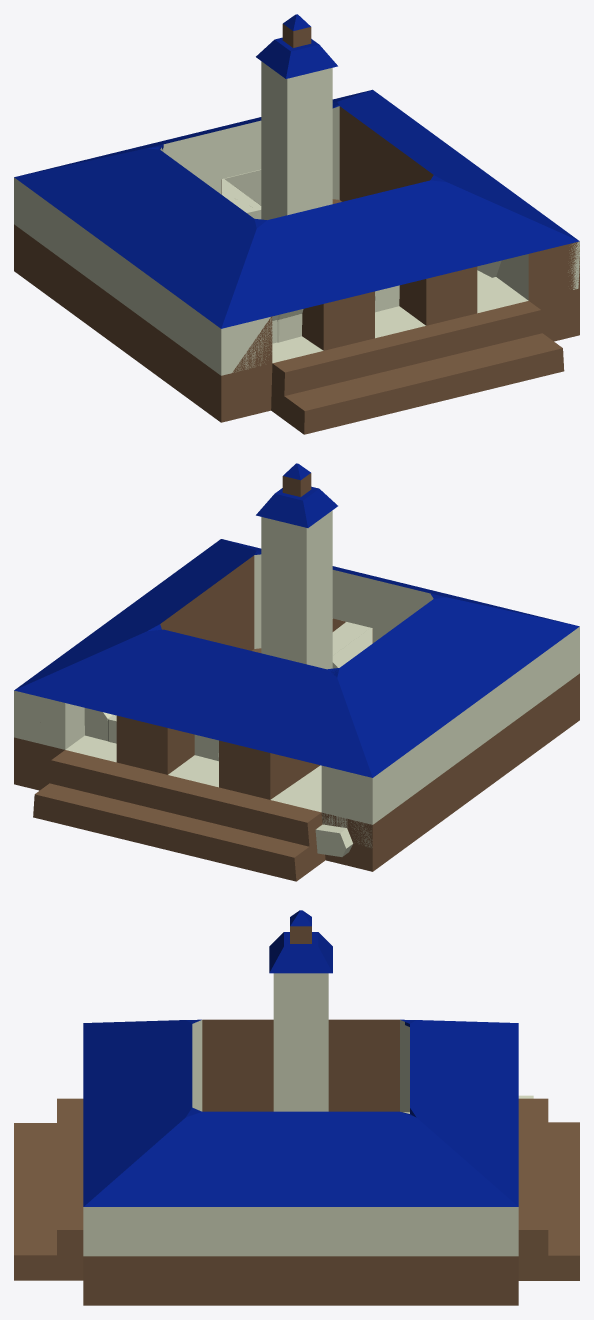
Rendered from TempleRoom.fbx.
3 renders of one model, top to bottom at view 1: azimuth 30°, elevation 25°; view 2: azimuth 150°, elevation 25°; view 3: azimuth 270°, elevation 25°, orthographic. The views are drawn at different scales.
Parts seen in each view (by area): view 1: Temple, Temple_cell.068, Temple_cell.073, Temple_cell.031, Temple_cell.083, Temple_cell.046, Temple_cell.085, Temple_cell.016, Temple_cell.069, Temple_cell.029, Temple_cell.004, Temple_cell.002 (+16 smaller); view 2: Temple, Temple_cell.068, Temple_cell.079, Temple_cell.004, Temple_cell.095, Temple_cell.058, Temple_cell.097, Temple_cell.010, Temple_cell.045, Temple_cell.098, Temple_cell.027, Temple_cell.023 (+13 smaller); view 3: Temple, Temple_cell.004, Temple_cell.027, Temple_cell.097, Temple_cell.016, Temple_cell.075, Temple_cell.079, Temple_cell.076, Temple_cell.036, Temple_cell.010, Temple_cell.080, Temple_cell.095 (+15 smaller).
Part boxes in pixels (bbox=[...]): Temple: bbox=[14, 16, 579, 434]; Temple_cell.068: bbox=[42, 155, 165, 321]; Temple_cell.073: bbox=[287, 44, 335, 162]; Temple_cell.031: bbox=[186, 303, 271, 375]; Temple_cell.083: bbox=[179, 356, 245, 421]; Temple_cell.046: bbox=[232, 316, 310, 383]; Temple_cell.085: bbox=[14, 176, 60, 281]; Temple_cell.016: bbox=[554, 242, 579, 335]; Temple_cell.069: bbox=[528, 248, 554, 319]; Temple_cell.029: bbox=[272, 33, 314, 119]; Temple_cell.004: bbox=[332, 96, 435, 151]; Temple_cell.002: bbox=[122, 281, 276, 367]; Temple: bbox=[14, 464, 579, 881]; Temple_cell.068: bbox=[327, 665, 476, 815]; Temple_cell.079: bbox=[110, 673, 218, 750]; Temple_cell.004: bbox=[76, 602, 167, 692]; Temple_cell.095: bbox=[245, 704, 320, 811]; Temple_cell.058: bbox=[296, 718, 394, 776]; Temple_cell.097: bbox=[142, 593, 221, 682]; Temple_cell.010: bbox=[269, 664, 349, 718]; Temple_cell.045: bbox=[194, 692, 270, 746]; Temple_cell.098: bbox=[260, 786, 347, 827]; Temple_cell.027: bbox=[14, 657, 94, 702]; Temple_cell.023: bbox=[306, 513, 332, 617]; Temple: bbox=[14, 910, 579, 1305]; Temple_cell.004: bbox=[307, 1112, 495, 1178]; Temple_cell.027: bbox=[433, 1160, 518, 1230]; Temple_cell.097: bbox=[306, 1079, 474, 1150]; Temple_cell.016: bbox=[83, 1207, 192, 1305]; Temple_cell.075: bbox=[174, 1019, 273, 1058]; Temple_cell.079: bbox=[448, 1090, 518, 1154]; Temple_cell.076: bbox=[289, 1170, 443, 1304]; Temple_cell.036: bbox=[109, 1047, 273, 1097]; Temple_cell.010: bbox=[392, 1020, 466, 1064]; Temple_cell.080: bbox=[328, 1019, 405, 1058]; Temple_cell.095: bbox=[464, 1039, 548, 1127].
Bounding box in the file's own units: 1200 × 921 × 1560.
